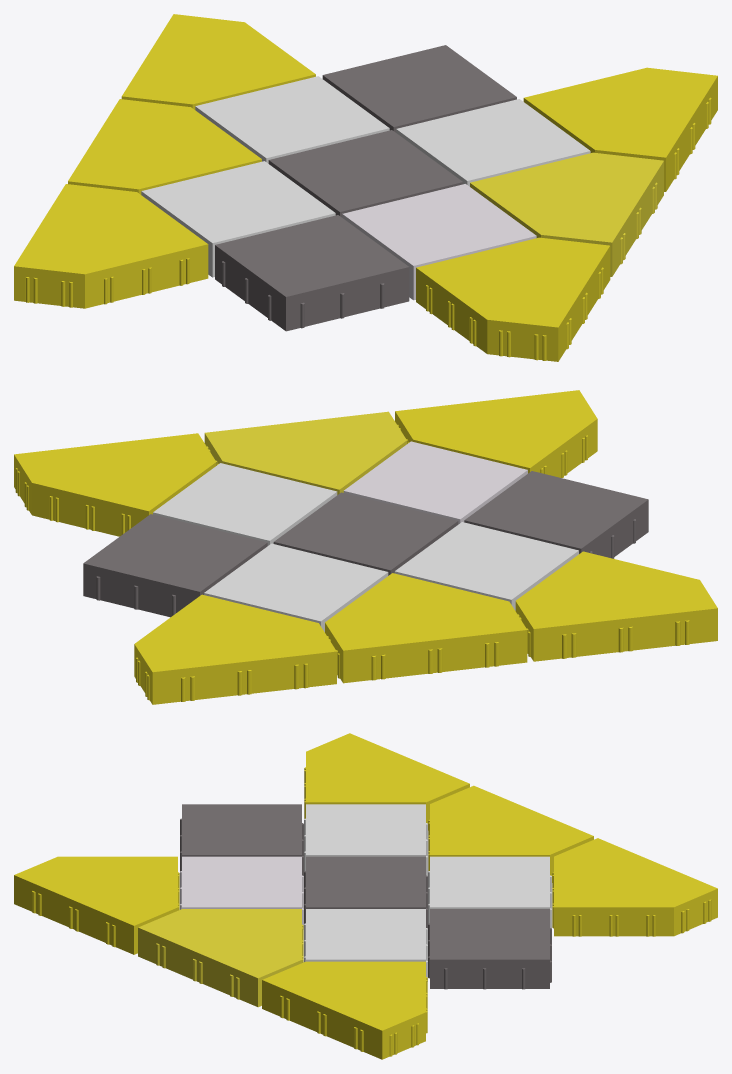
3 views of the same model, one above another, from view 1: azimuth 30°, elevation 25°; view 2: azimuth 150°, elevation 25°; view 3: azimuth 270°, elevation 25° (orthographic). The views are drawn at different scales.
Visible parts, largest first — view 1: Брусчатка 422*360*60.002, Брусчатка 422*360*60.005, Брусчатка 30*30*60.005, Брусчатка 422*360*60.001, Брусчатка 422*360*60, Брусчатка 422*360*60.009, Брусчатка 422*360*60.004, Брусчатка 30*30*60.004, Брусчатка 30*30*60.001, Брусчатка 30*30*60.002, Брусчатка 30*30*60.003, Брусчатка 30*30*60.006 (+1 smaller); view 2: Брусчатка 422*360*60.009, Брусчатка 422*360*60.004, Брусчатка 422*360*60.005, Брусчатка 422*360*60.001, Брусчатка 422*360*60.002, Брусчатка 30*30*60.006, Брусчатка 422*360*60, Брусчатка 30*30*60.005, Брусчатка 30*30*60.004, Брусчатка 30*30*60.003, Брусчатка 30*30*60.002, Брусчатка 30*30*60.001 (+1 smaller); view 3: Брусчатка 422*360*60.009, Брусчатка 422*360*60.001, Брусчатка 422*360*60.002, Брусчатка 422*360*60, Брусчатка 30*30*60.006, Брусчатка 422*360*60.005, Брусчатка 422*360*60.004, Брусчатка 30*30*60.003, Брусчатка 30*30*60.002, Брусчатка 30*30*60.004, Брусчатка 30*30*60.005, Брусчатка 30*30*60.001 (+1 smaller).
Boxes of the visible parts, x1,y1,x2,y2 form: Брусчатка 422*360*60.002: [416, 237, 610, 361]; Брусчатка 422*360*60.005: [14, 184, 208, 308]; Брусчатка 30*30*60.005: [215, 215, 409, 331]; Брусчатка 422*360*60.001: [523, 67, 717, 191]; Брусчатка 422*360*60: [470, 152, 663, 276]; Брусчатка 422*360*60.009: [121, 14, 315, 109]; Брусчатка 422*360*60.004: [68, 99, 261, 194]; Брусчатка 30*30*60.004: [141, 161, 335, 277]; Брусчатка 30*30*60.001: [342, 184, 536, 300]; Брусчатка 30*30*60.002: [268, 130, 463, 217]; Брусчатка 30*30*60.003: [195, 76, 389, 163]; Брусчатка 30*30*60.006: [322, 45, 516, 132]; Брусчатка 422*360*60.009: [134, 594, 336, 704]; Брусчатка 422*360*60.004: [325, 573, 527, 683]; Брусчатка 422*360*60.005: [515, 551, 717, 661]; Брусчатка 422*360*60.001: [14, 433, 216, 536]; Брусчатка 422*360*60.002: [395, 390, 597, 477]; Брусчатка 30*30*60.006: [83, 514, 267, 617]; Брусчатка 422*360*60: [204, 411, 406, 494]; Брусчатка 30*30*60.005: [464, 471, 648, 558]; Брусчатка 30*30*60.004: [394, 522, 578, 610]; Брусчатка 30*30*60.003: [204, 543, 388, 632]; Брусчатка 30*30*60.002: [273, 492, 458, 575]; Брусчатка 30*30*60.001: [343, 441, 527, 524]; Брусчатка 422*360*60.009: [552, 838, 717, 936]; Брусчатка 422*360*60.001: [262, 961, 427, 1059]; Брусчатка 422*360*60.002: [14, 856, 179, 954]; Брусчатка 422*360*60: [138, 909, 303, 1007]; Брусчатка 30*30*60.006: [428, 909, 551, 989]; Брусчатка 422*360*60.005: [304, 733, 469, 830]; Брусчатка 422*360*60.004: [428, 785, 593, 882]; Брусчатка 30*30*60.003: [428, 856, 551, 928]; Брусчатка 30*30*60.002: [304, 856, 427, 928]; Брусчатка 30*30*60.004: [304, 804, 427, 875]; Брусчатка 30*30*60.005: [180, 804, 303, 875]; Брусчатка 30*30*60.001: [180, 856, 303, 929].
Size of the model in its own units: 35.19 by 1.61 by 35.18.
